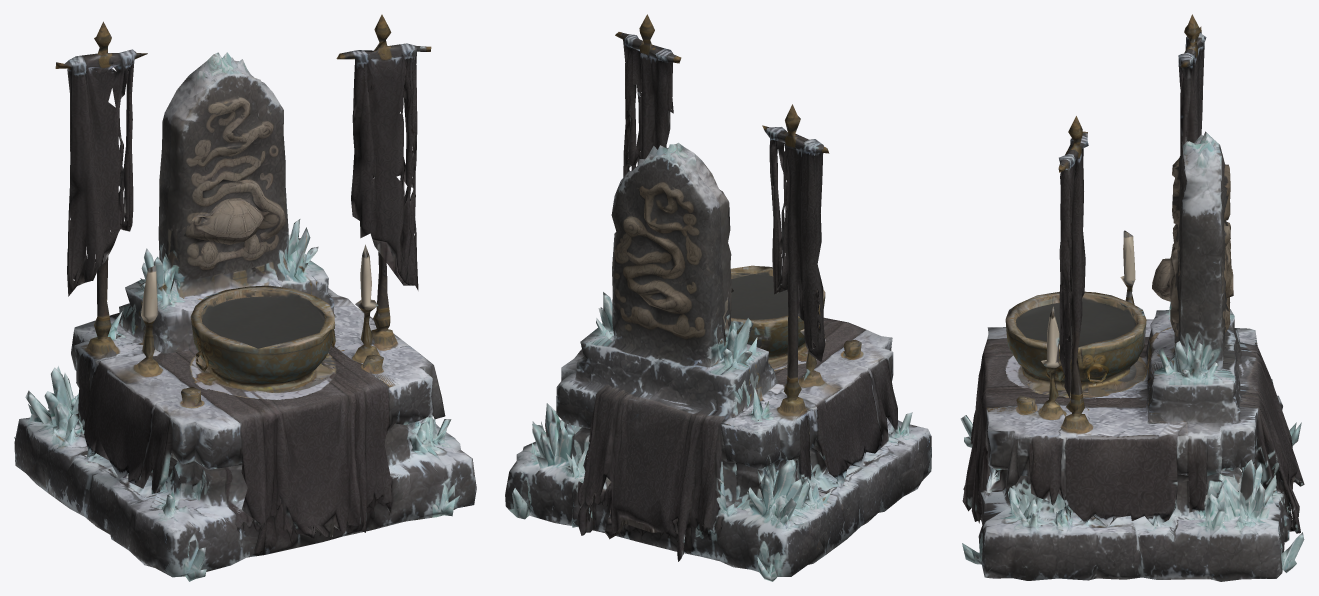
File: PR_BlackWaterAltar.fbx
3 views of the same model, side by side, from view 1: azimuth 30°, elevation 25°; view 2: azimuth 150°, elevation 25°; view 3: azimuth 270°, elevation 25° (orthographic). The views are drawn at different scales.
Parts seen in each view (by area): view 1: texture_mapping; view 2: texture_mapping; view 3: texture_mapping.
Boxes of the visible parts, <box> form: texture_mapping: <box>14,14,476,581</box>; texture_mapping: <box>505,14,931,581</box>; texture_mapping: <box>960,14,1304,581</box>.
Bounding box in the file's own units: 0.7124 × 0.699 × 0.9995.
1 material, 1 textured.
